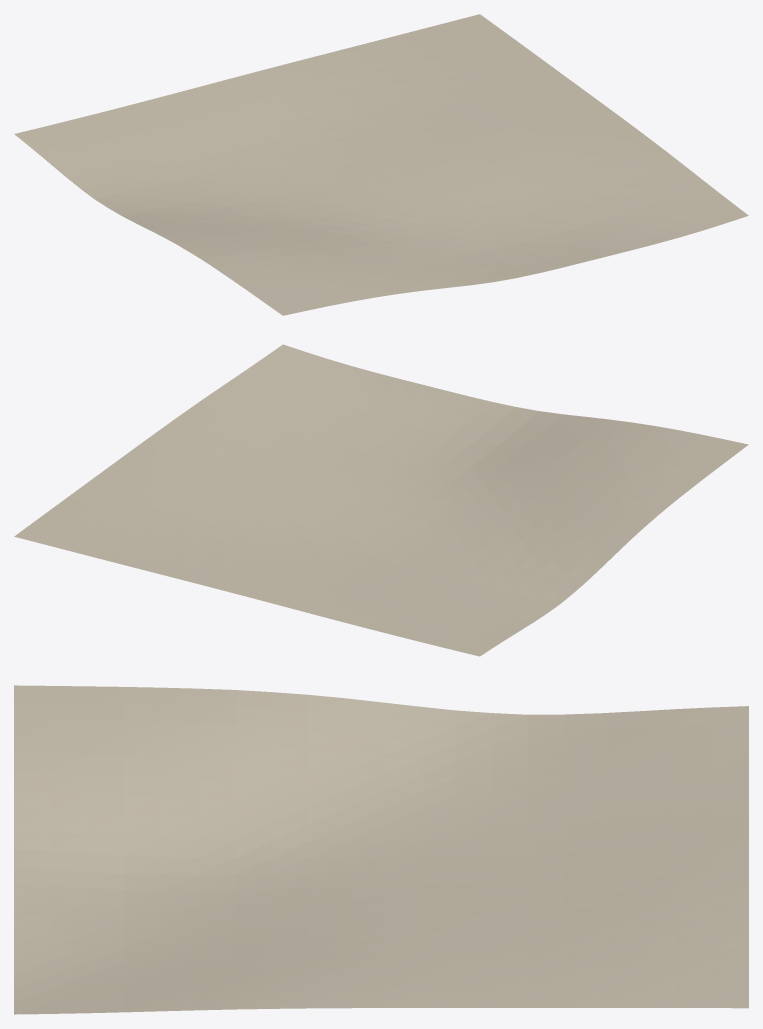
The model's file is bolak_-24_-1.glb.
3 views of the same model, one above another, from view 1: azimuth 30°, elevation 25°; view 2: azimuth 150°, elevation 25°; view 3: azimuth 270°, elevation 25° (orthographic). The views are drawn at different scales.
Parts seen in each view (by area): view 1: Yer_Tuproq-col; view 2: Yer_Tuproq-col; view 3: Yer_Tuproq-col.
Boxes of the visible parts, left/top/right/bottom form: Yer_Tuproq-col: left=14, top=14, right=748, bottom=315; Yer_Tuproq-col: left=14, top=344, right=748, bottom=656; Yer_Tuproq-col: left=14, top=685, right=748, bottom=1014.
Size of the model in its own units: 400 by 20.81 by 400.
